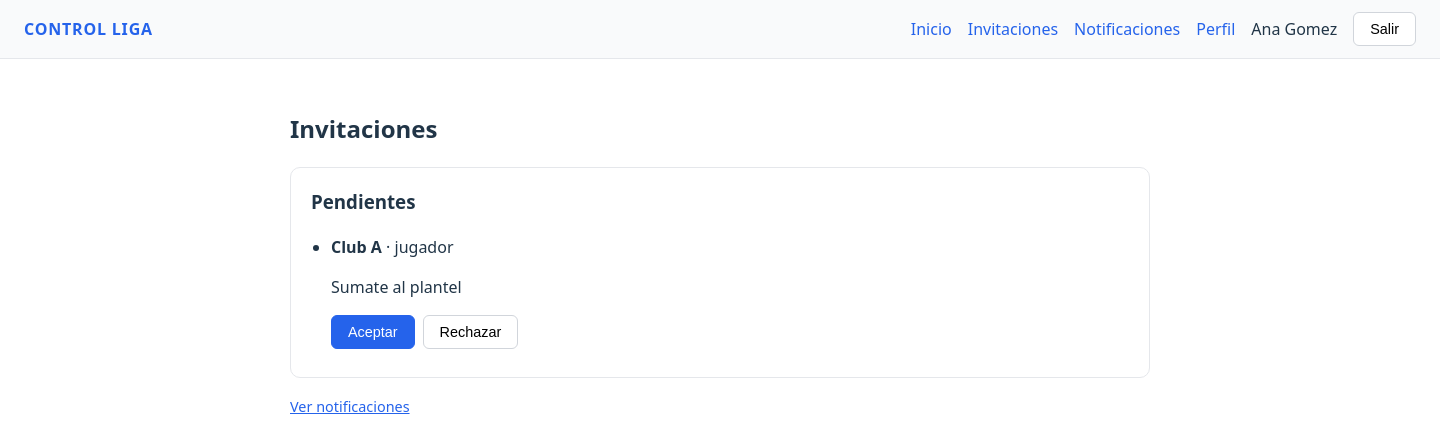
Test case: InvitacionesPage › acepta una invitación
Check: the text "Club A" is shown, box [331,236,382,258]
Click the button "Aceptar".
click(373, 332)  # box [331,315,415,349]
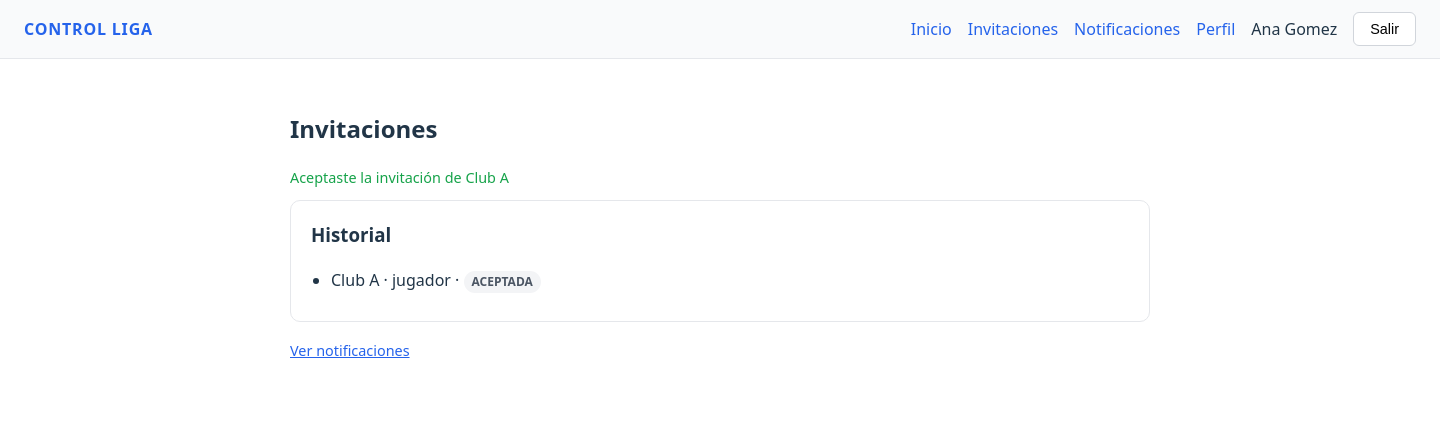
Check: the text "Aceptaste la invitación de Club A" is shown, box [290,168,509,187]
